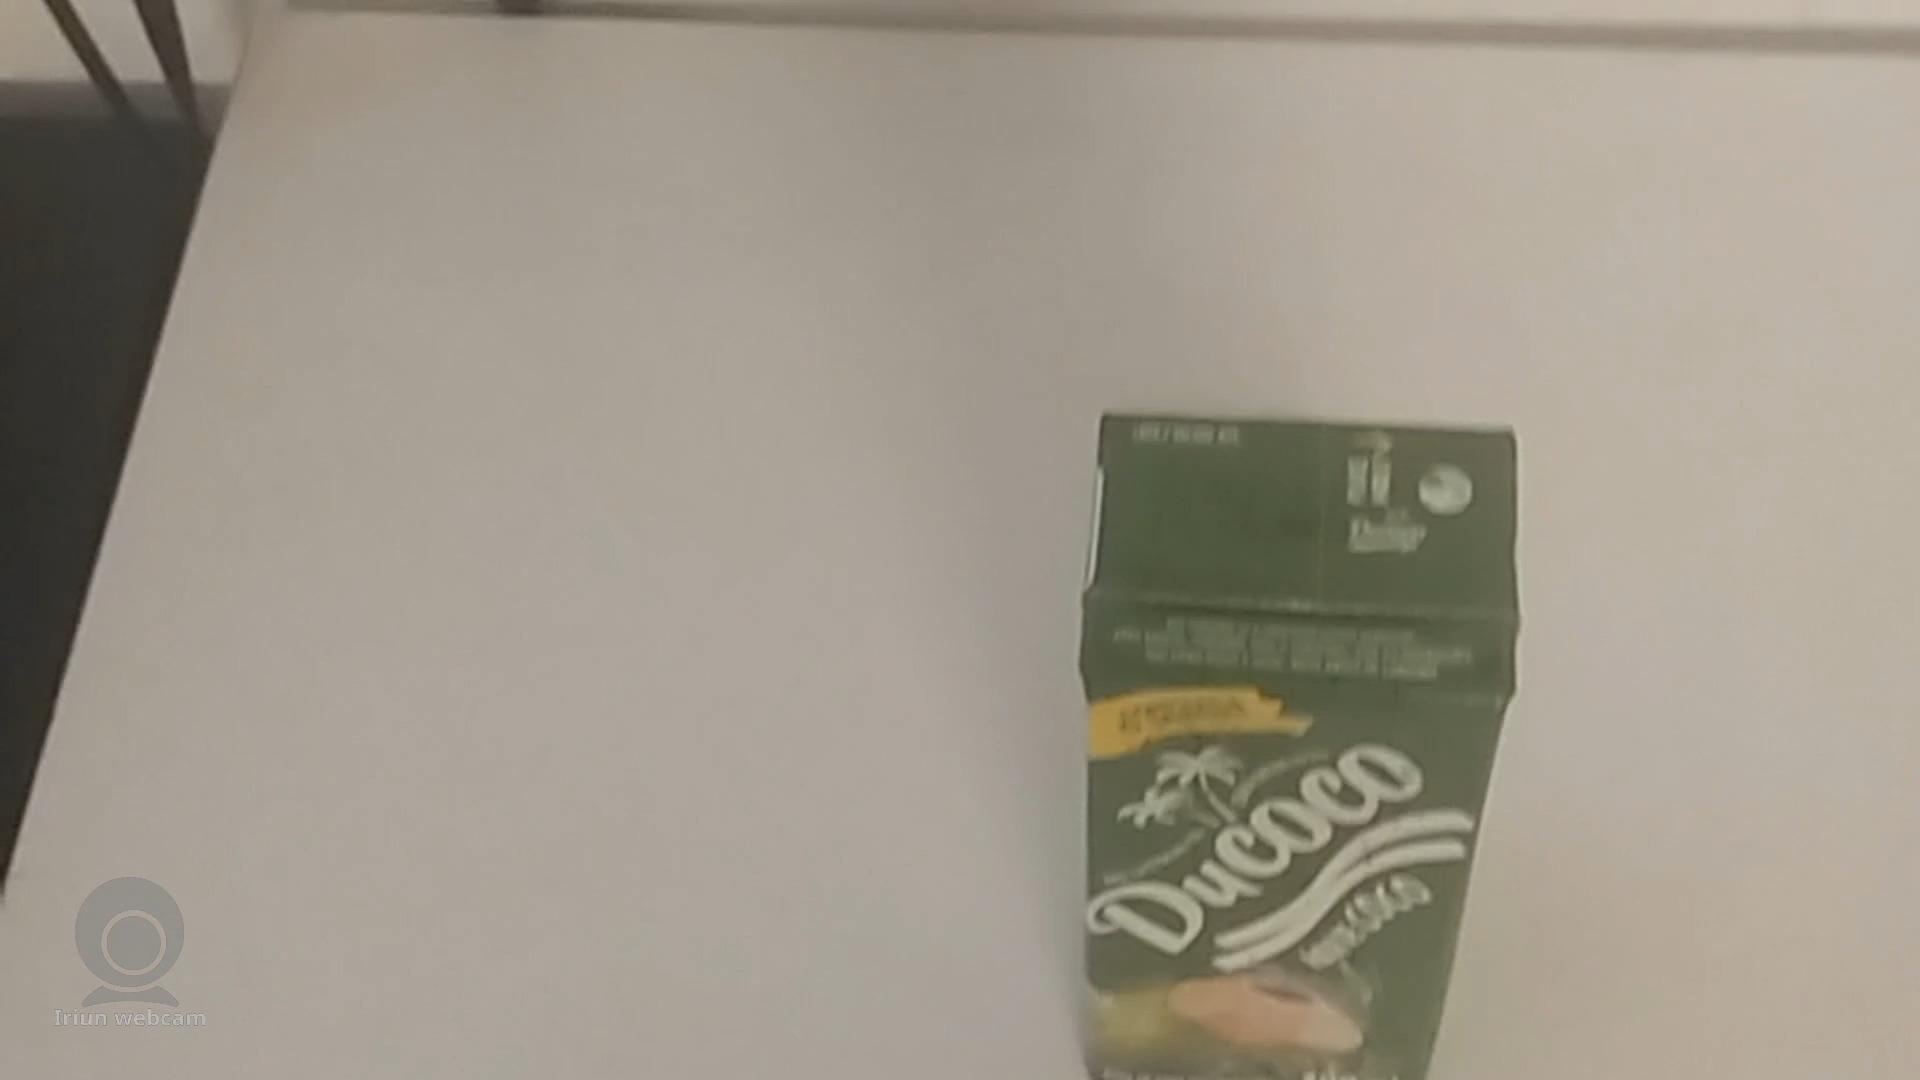coco: (1083, 410, 1524, 1080)
